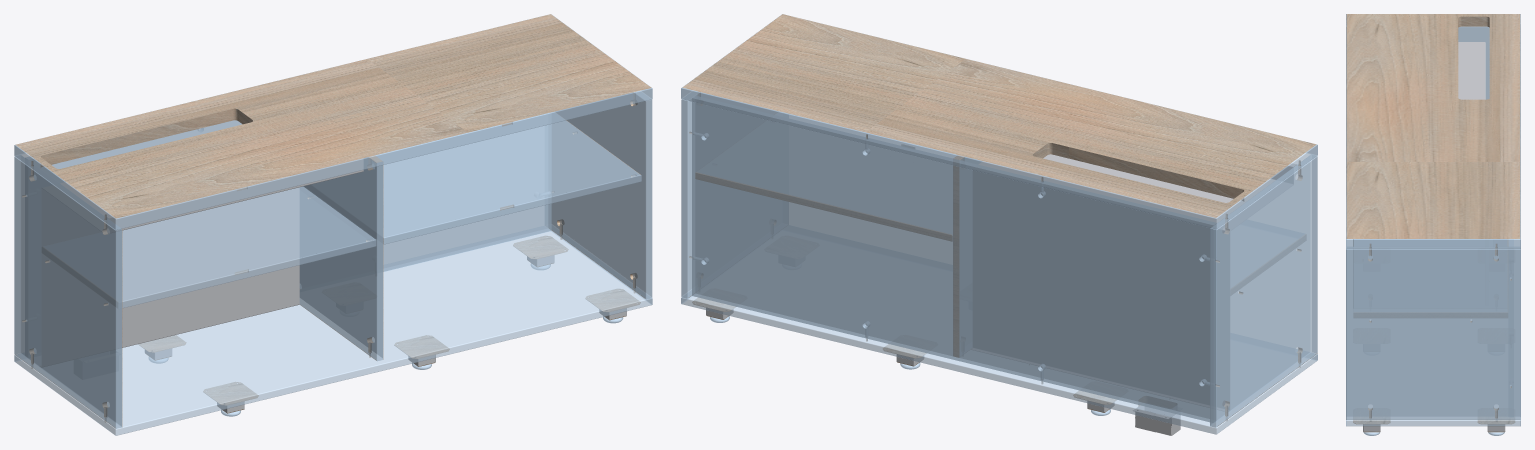
Rendered from LKAL190000_DER_150.glb.
The picture shows the model from 3 angles, left to right: view 1: azimuth 30°, elevation 25°; view 2: azimuth 150°, elevation 25°; view 3: azimuth 270°, elevation 25°; orthographic projection. The views are drawn at different scales.
Visible parts, largest first — view 1: 7, 4 (×3), 32, 8, 67, 75, 74, 63, 72; view 2: 8, 4 (×3), 32, 7, 67, 27; view 3: 4 (×3), 7, 32, 67, 63, 72.
Part boxes in pixels (x1=…): 7: x1=14, y1=93, x2=651, y2=427; 4 (×3): x1=14, y1=14, x2=652, y2=435; 32: x1=41, y1=158, x2=363, y2=366; 8: x1=25, y1=120, x2=551, y2=356; 67: x1=15, y1=92, x2=644, y2=428; 75: x1=394, y1=335, x2=449, y2=358; 74: x1=203, y1=382, x2=258, y2=405; 63: x1=585, y1=289, x2=640, y2=311; 72: x1=513, y1=236, x2=568, y2=258; 8: x1=692, y1=96, x2=1216, y2=422; 4 (×3): x1=681, y1=14, x2=1317, y2=434; 32: x1=971, y1=154, x2=1296, y2=410; 7: x1=682, y1=92, x2=1317, y2=426; 67: x1=689, y1=92, x2=1317, y2=426; 27: x1=1133, y1=405, x2=1180, y2=435; 4 (×3): x1=1346, y1=14, x2=1520, y2=426; 7: x1=1346, y1=27, x2=1520, y2=419; 32: x1=1458, y1=42, x2=1485, y2=99; 67: x1=1353, y1=239, x2=1511, y2=422; 63: x1=1353, y1=408, x2=1390, y2=423; 72: x1=1478, y1=408, x2=1514, y2=423.
Size of the model in its own units: 1.53 by 0.643 by 0.5.
Materials: 3 (1 with a texture image).
